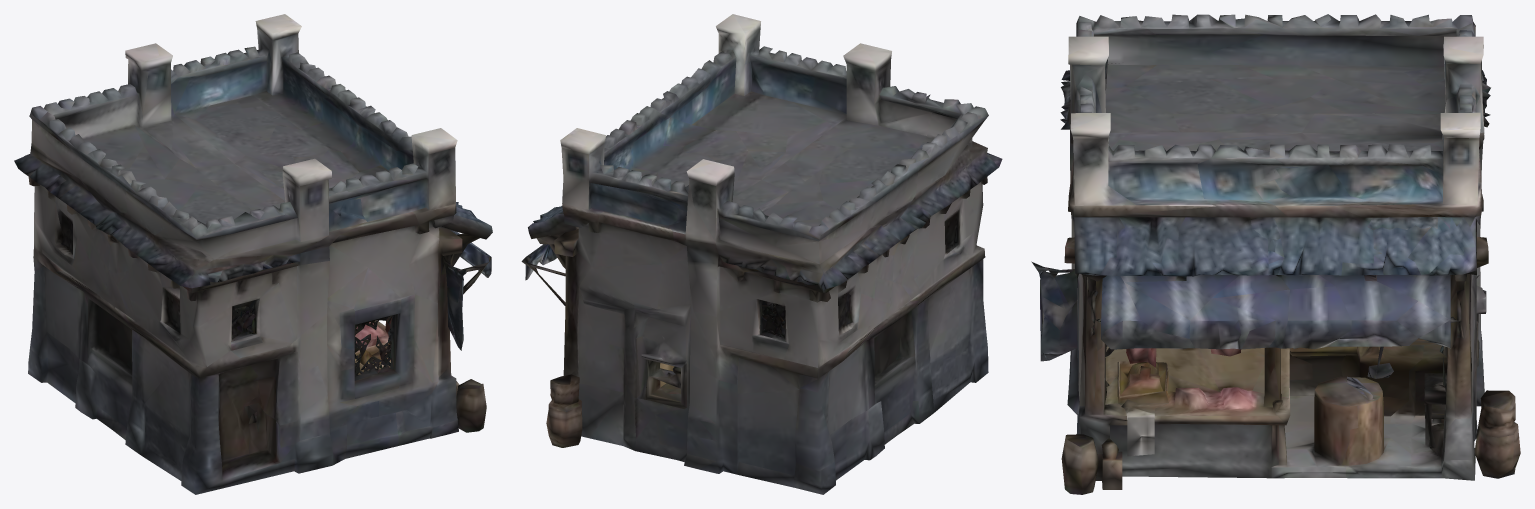
File: butcher.glb
3 views of the same model, side by side, from view 1: azimuth 30°, elevation 25°; view 2: azimuth 150°, elevation 25°; view 3: azimuth 270°, elevation 25° (orthographic). The views are drawn at different scales.
Parts seen in each view (by area): view 1: tripo_node_4aec4c42-5bd9-4aee-8e4b-717b259726e0; view 2: tripo_node_4aec4c42-5bd9-4aee-8e4b-717b259726e0; view 3: tripo_node_4aec4c42-5bd9-4aee-8e4b-717b259726e0.
Boxes of the visible parts, x1,y1,x2,y2 form: tripo_node_4aec4c42-5bd9-4aee-8e4b-717b259726e0: (14, 14, 492, 494); tripo_node_4aec4c42-5bd9-4aee-8e4b-717b259726e0: (521, 14, 1002, 494); tripo_node_4aec4c42-5bd9-4aee-8e4b-717b259726e0: (1031, 14, 1520, 494).
Size of the model in its own units: 0.8814 by 0.7705 by 0.9752.
Materials: 1 (1 with a texture image).
